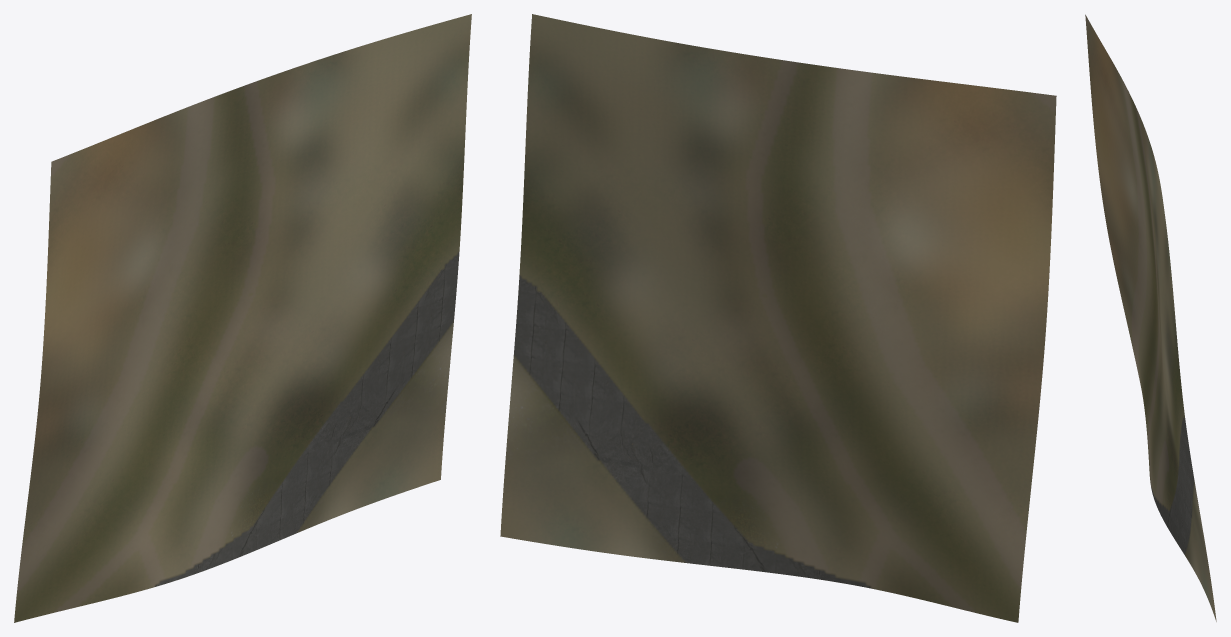
The model's file is ground_core_01_01.obj.
The picture shows the model from 3 angles, left to right: view 1: azimuth 30°, elevation 25°; view 2: azimuth 150°, elevation 25°; view 3: azimuth 270°, elevation 25°; orthographic projection. The views are drawn at different scales.
Parts seen in each view (by area): view 1: ground_core_01_01; view 2: ground_core_01_01; view 3: ground_core_01_01.
Boxes of the visible parts, x1,y1,x2,y2 form: ground_core_01_01: (14,14,471,622); ground_core_01_01: (500,14,1056,622); ground_core_01_01: (1085,14,1216,621).
Size of the model in its own units: 50 by 50 by 14.34.
Materials: 1 (1 with a texture image).
